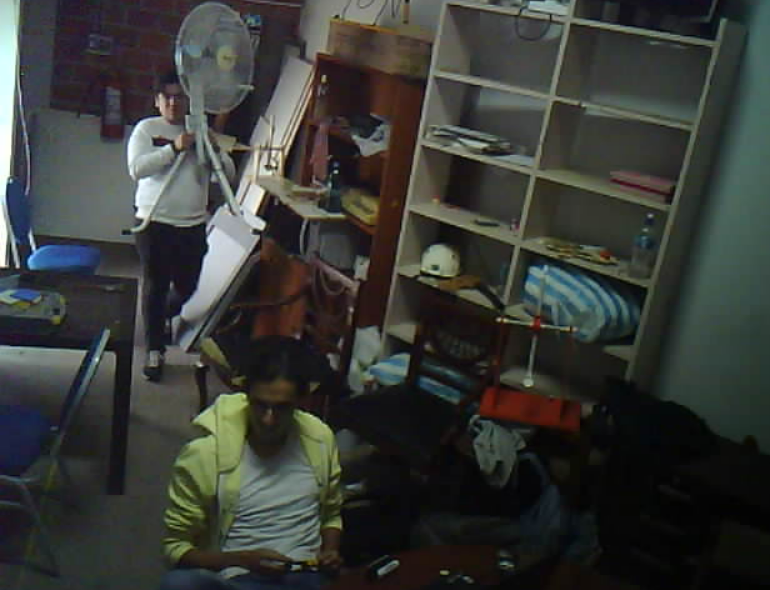person: (104, 46, 270, 376), (151, 346, 372, 590)
